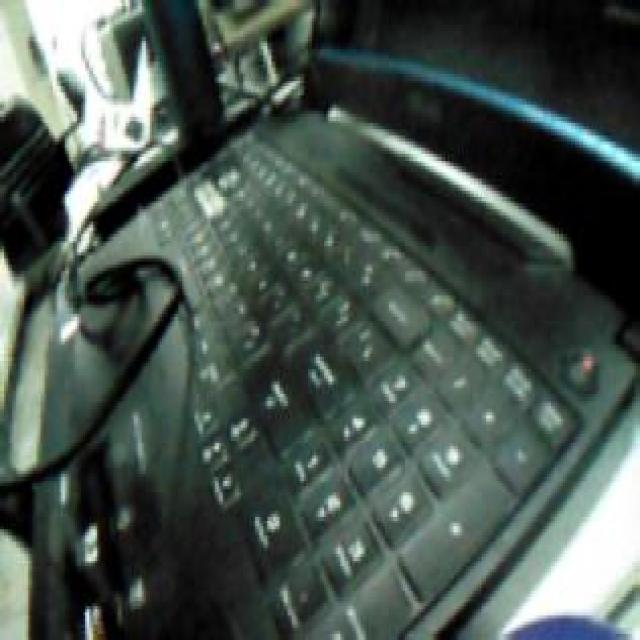BallPurple: (500, 612, 632, 640)
